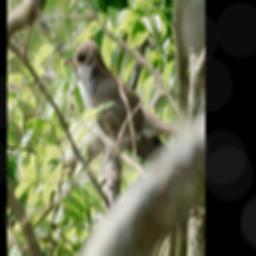Cuckoo: (64, 37, 182, 165)
